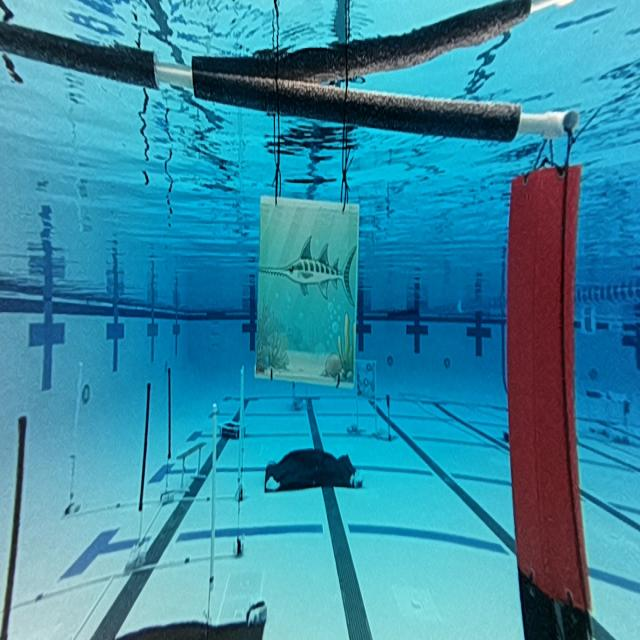pointed_nose: (250, 201, 364, 382)
